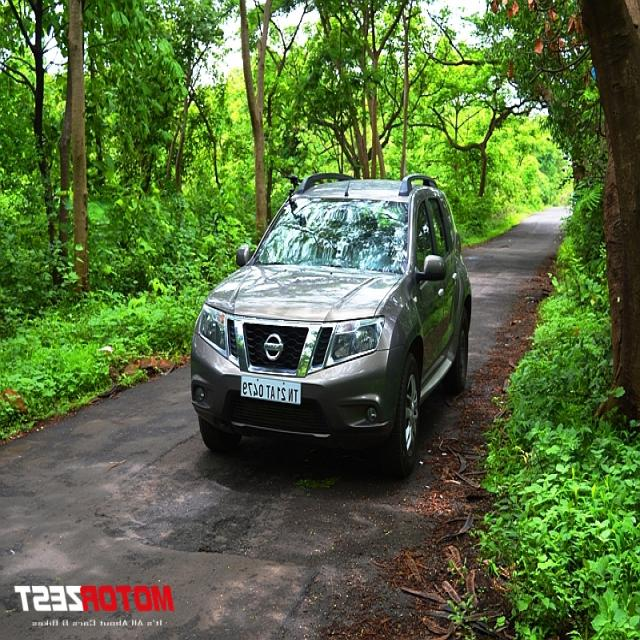number-plate: (228, 378, 306, 412)
